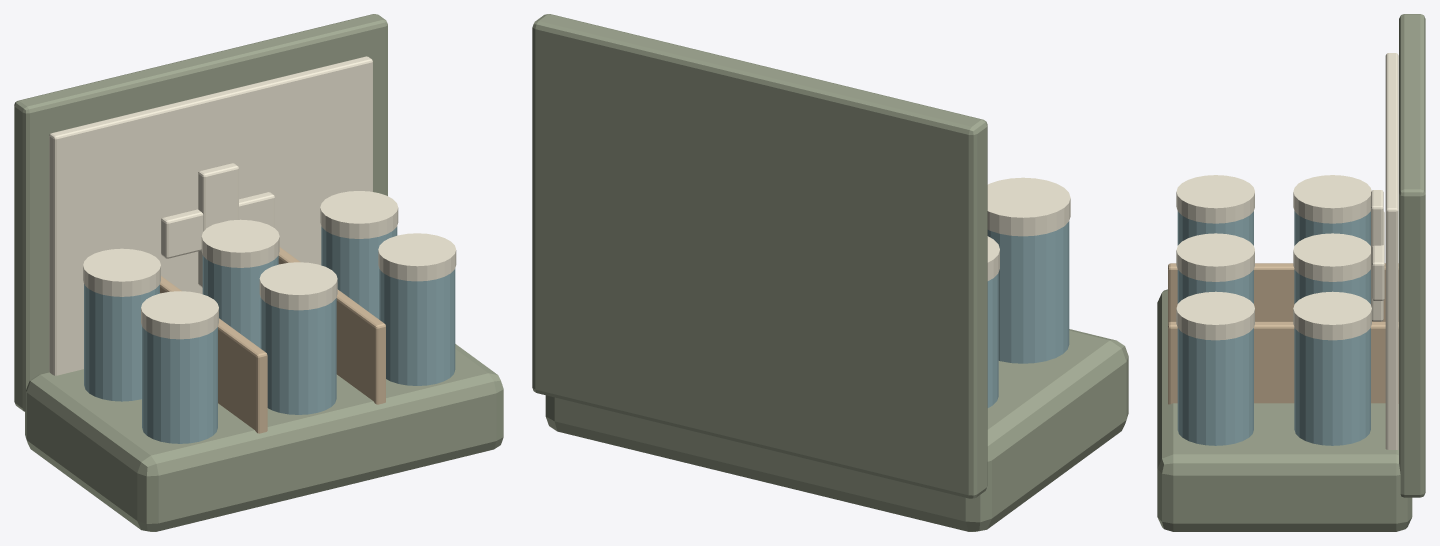
3 renders of one model, left to right at view 1: azimuth 30°, elevation 25°; view 2: azimuth 150°, elevation 25°; view 3: azimuth 270°, elevation 25°, orthographic. The views are drawn at different scales.
Visible parts, largest first — view 1: lid inner pad, organizer base, upright open lid, medicine vial, medicine vial.002, medicine vial.004, medicine vial.001, divider.001, divider, medicine vial.005, medicine vial.003, vial cap.004 (+7 smaller); view 2: upright open lid, organizer base, medicine vial, vial cap, medicine vial.001; view 3: organizer base, upright open lid, medicine vial.004, medicine vial.005, lid inner pad, divider.001, vial cap.004, vial cap, vial cap.002, vial cap.005, vial cap.001, vial cap.003 (+7 smaller).
Boxes of the visible parts, x1,y1,x2,y2 form: lid inner pad: (49,56,372,375); organizer base: (25,344,503,531); upright open lid: (14,14,387,411); medicine vial: (142,327,217,443); medicine vial.002: (260,298,336,414); medicine vial.004: (379,268,455,385); medicine vial.001: (84,284,159,401); divider.001: (278,247,385,404); divider: (160,276,267,433); medicine vial.005: (321,226,397,319); medicine vial.003: (202,255,278,348); vial cap.004: (378,233,456,281); upright open lid: (532,14,987,498); organizer base: (545,329,1128,531); medicine vial: (987,221,1069,363); vial cap: (987,177,1070,236); medicine vial.001: (987,273,998,407); organizer base: (1157,289,1412,531); upright open lid: (1399,14,1425,497); medicine vial.004: (1177,328,1253,445); medicine vial.005: (1294,327,1370,445); lid inner pad: (1385,53,1398,449); divider.001: (1168,321,1398,404); vial cap.004: (1176,291,1254,340); vial cap: (1176,175,1254,223); vial cap.002: (1176,233,1254,281); vial cap.005: (1293,291,1371,340); vial cap.001: (1293,175,1371,223); vial cap.003: (1293,233,1370,281).
Size of the model in its own units: 0.4 by 0.36 by 0.2525.
